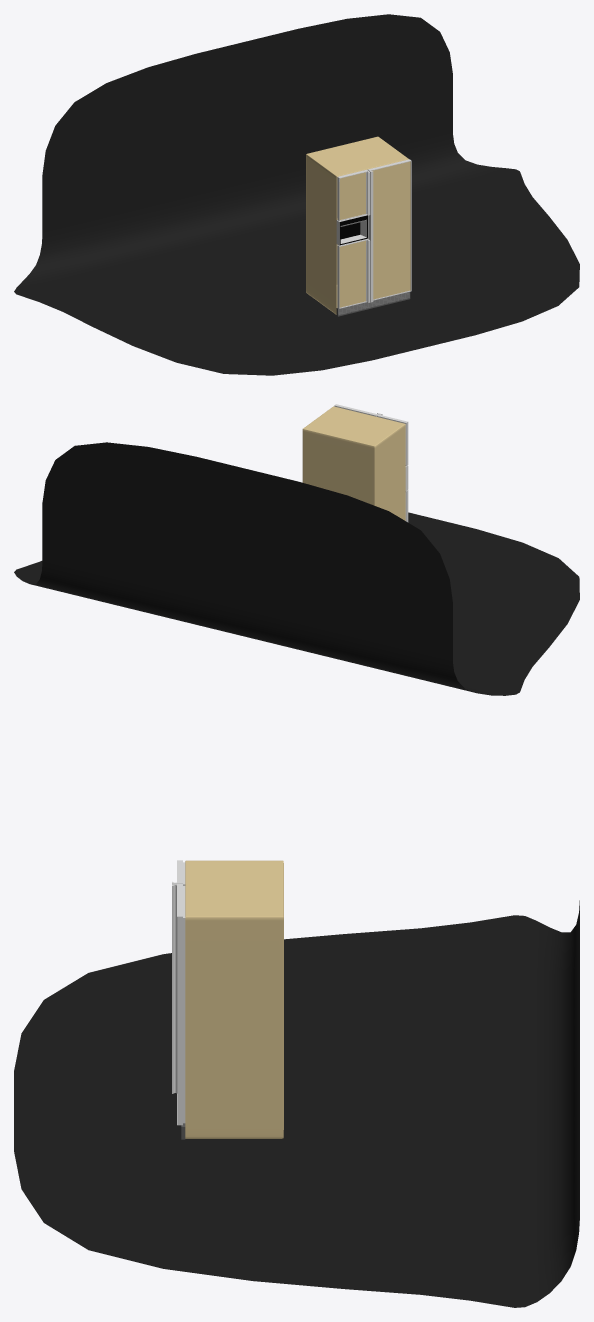
File: ivan_03_refrigerator1.fbx
3 renders of one model, top to bottom at view 1: azimuth 30°, elevation 25°; view 2: azimuth 150°, elevation 25°; view 3: azimuth 270°, elevation 25°, orthographic. The views are drawn at different scales.
Visible parts, largest first — view 1: Plane, Cube.128, Cube.017, Cube.127, Cube.124, Cube.005; view 2: Plane, Cube.017, Cube.127; view 3: Plane, Cube.017, Cube.127.
Boxes of the visible parts, x1,y1,x2,y2 form: Plane: (14, 14, 579, 375); Cube.128: (339, 161, 410, 307); Cube.017: (306, 136, 408, 314); Cube.127: (337, 159, 411, 308); Cube.124: (336, 292, 410, 316); Cube.005: (339, 215, 367, 245); Plane: (14, 442, 579, 695); Cube.017: (302, 406, 405, 520); Cube.127: (334, 404, 408, 522); Plane: (14, 900, 579, 1307); Cube.017: (185, 860, 283, 1138); Cube.127: (172, 860, 185, 1125).
Size of the model in its own units: 642 by 216 by 391.
